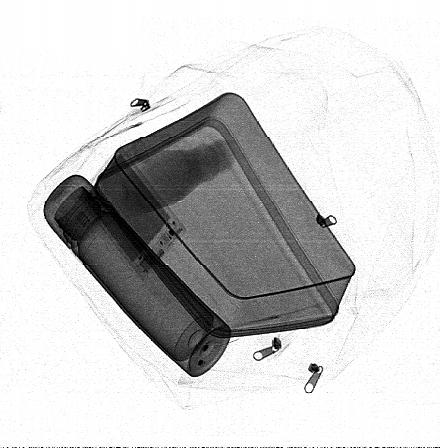Powerbank: (80, 144, 187, 284)
